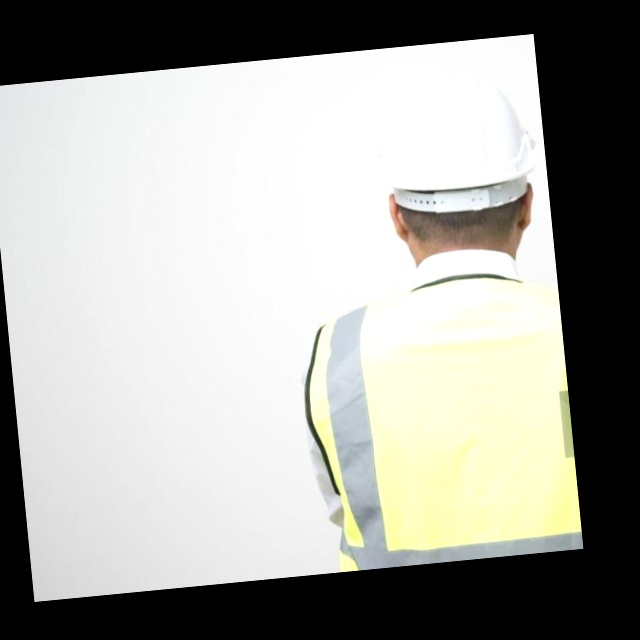Con_Casco: (366, 59, 550, 269)
Sin_Chaleco: (299, 273, 583, 574)
